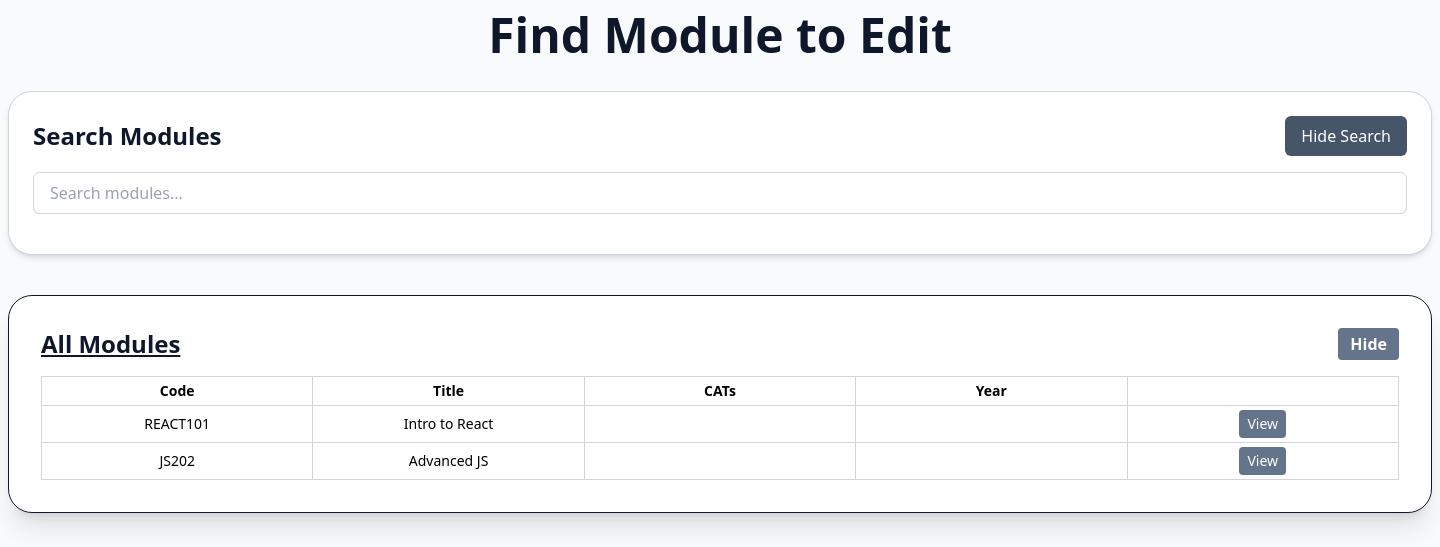
Test: EditModules › toggles the search box visibility
The width and height of the screenshot is (1440, 547).
What coordinates should you click on to do the following:
click the button "Hide Search"
I would click on:
 (1346, 136)
Its box is top-left (1285, 116), bottom-right (1407, 156).
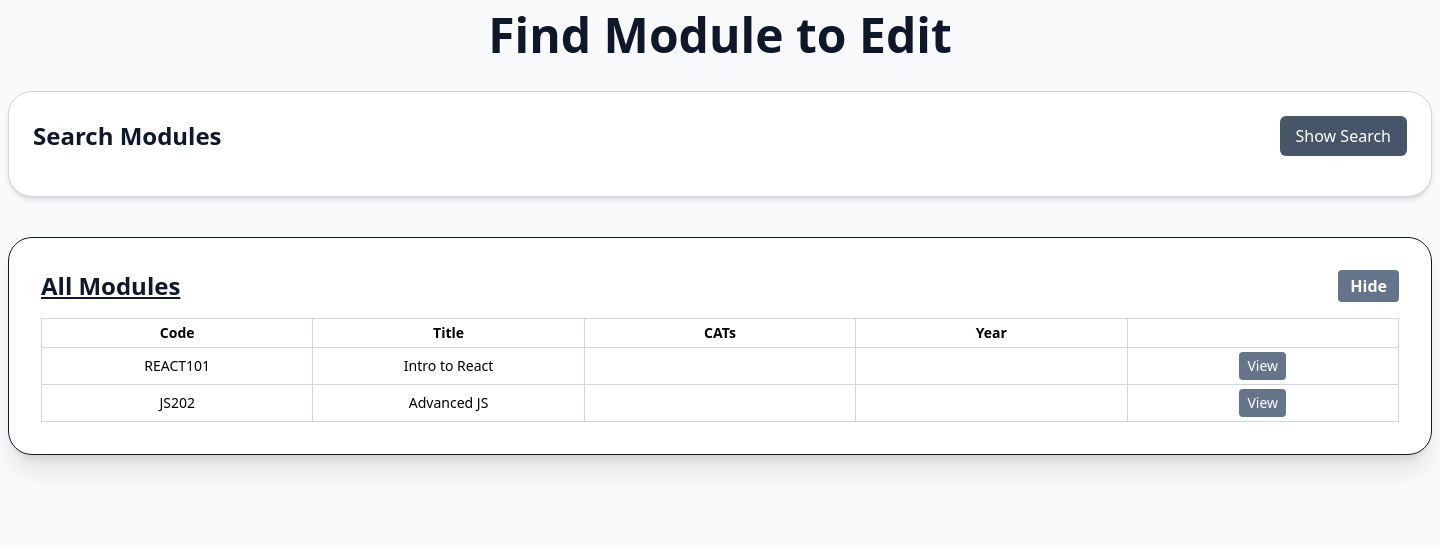
What coordinates should you click on to do the following:
click the button named "hide search"
I would click on:
 (1343, 136)
Its box is top-left (1280, 116), bottom-right (1407, 156).
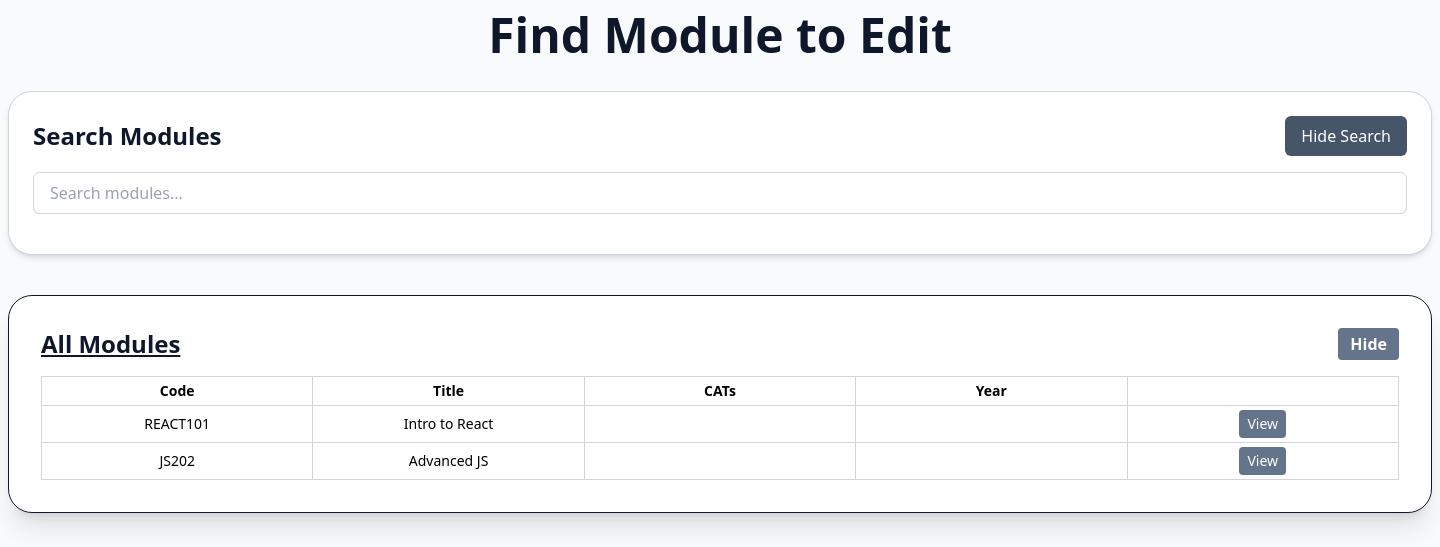
Now the field with placeholder "Search modules..." is shown, box top-left (33, 172), bottom-right (1407, 214)
